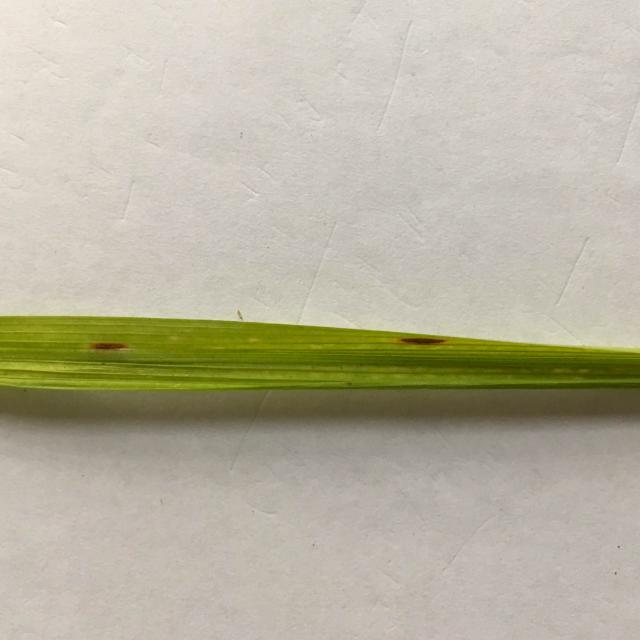brownspots: (391, 329, 455, 350), (82, 335, 132, 357)
